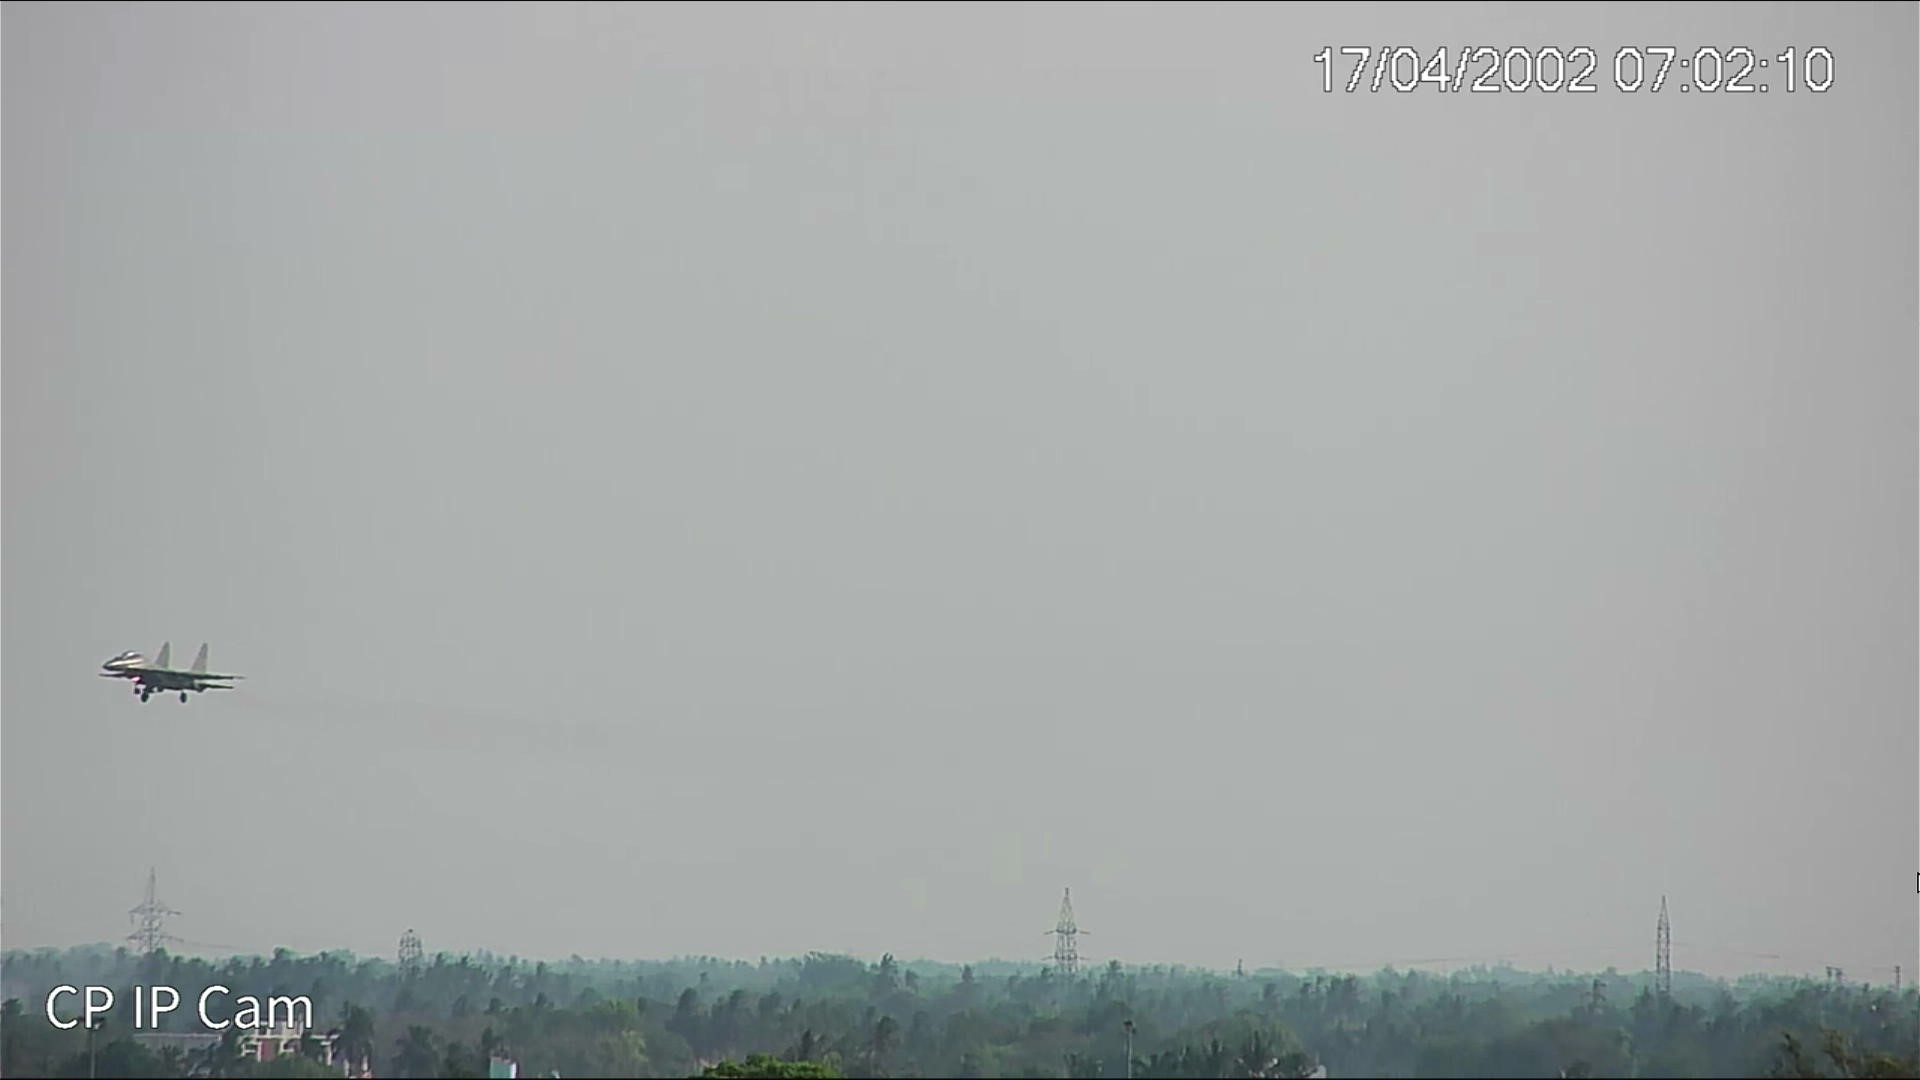SU_30: (98, 640, 247, 702)
